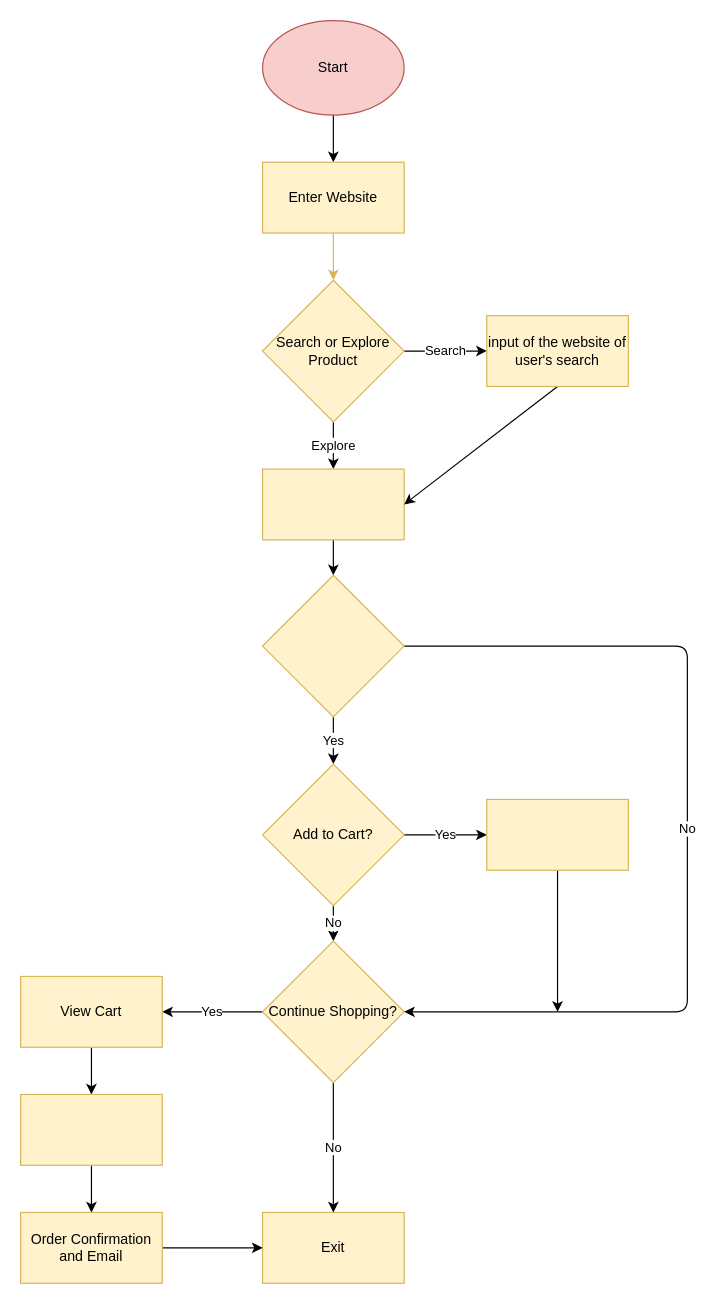
The diagram is 717 pixels wide and 1304 high, and some of its shapes have lost their labels. The shapes that lost their labels are listed below. From the top down, each one's centre as x and y in pixels, then its label:
At pixel 332 504: "Looking over products".
At pixel 332 645: "View Specific Product".
At pixel 557 834: "Added to Cart Confirmation".
At pixel 90 1129: "View Payment".
